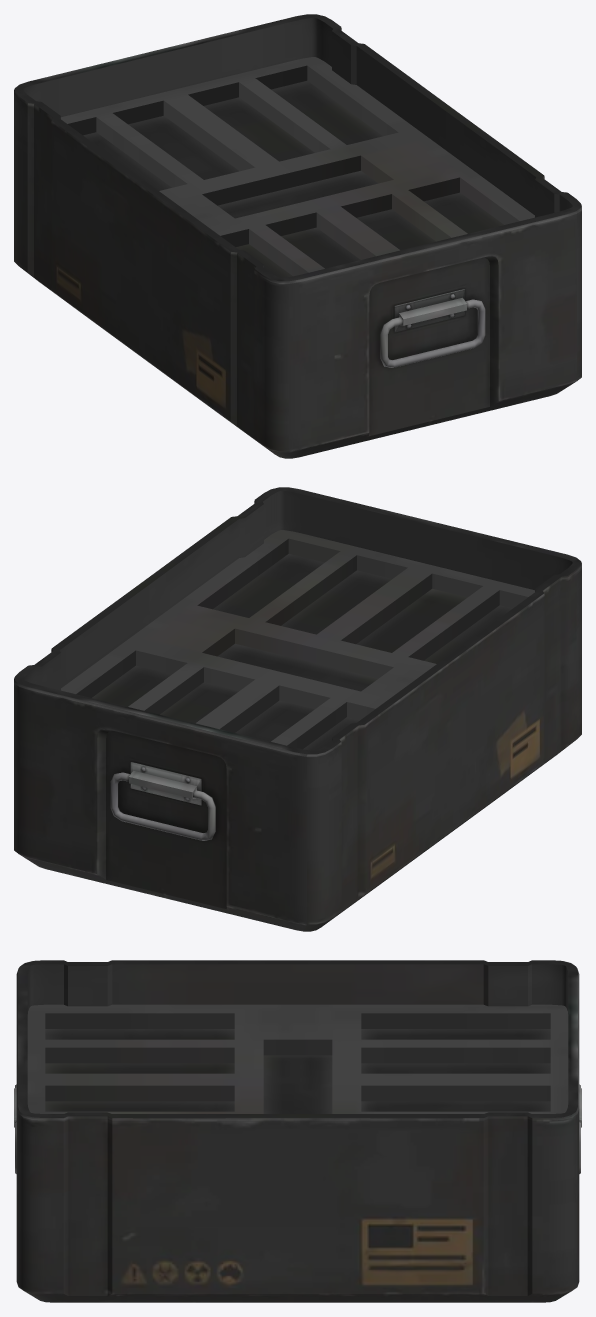
3 renders of one model, top to bottom at view 1: azimuth 30°, elevation 25°; view 2: azimuth 150°, elevation 25°; view 3: azimuth 270°, elevation 25°, orthographic. The views are drawn at different scales.
Parts seen in each view (by area): view 1: body0_model0_lod0_mesh0; view 2: body0_model0_lod0_mesh0; view 3: body0_model0_lod0_mesh0.
Part boxes in pixels (x1,y1,x2,y2): body0_model0_lod0_mesh0: (14, 14, 581, 458); body0_model0_lod0_mesh0: (14, 487, 581, 931); body0_model0_lod0_mesh0: (14, 960, 581, 1302).
Size of the model in its own units: 80.07 by 45.29 by 121.
Materials: 1 (1 with a texture image).
